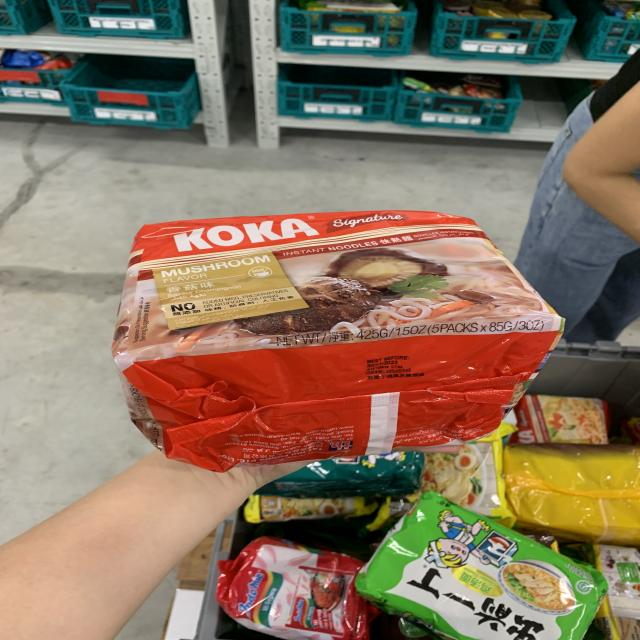object_name: (125, 220, 526, 439)
